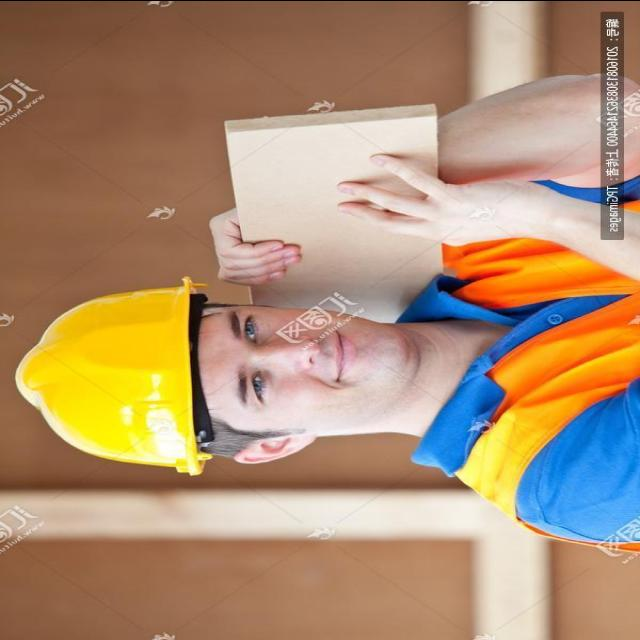helmet: (13, 270, 217, 478)
